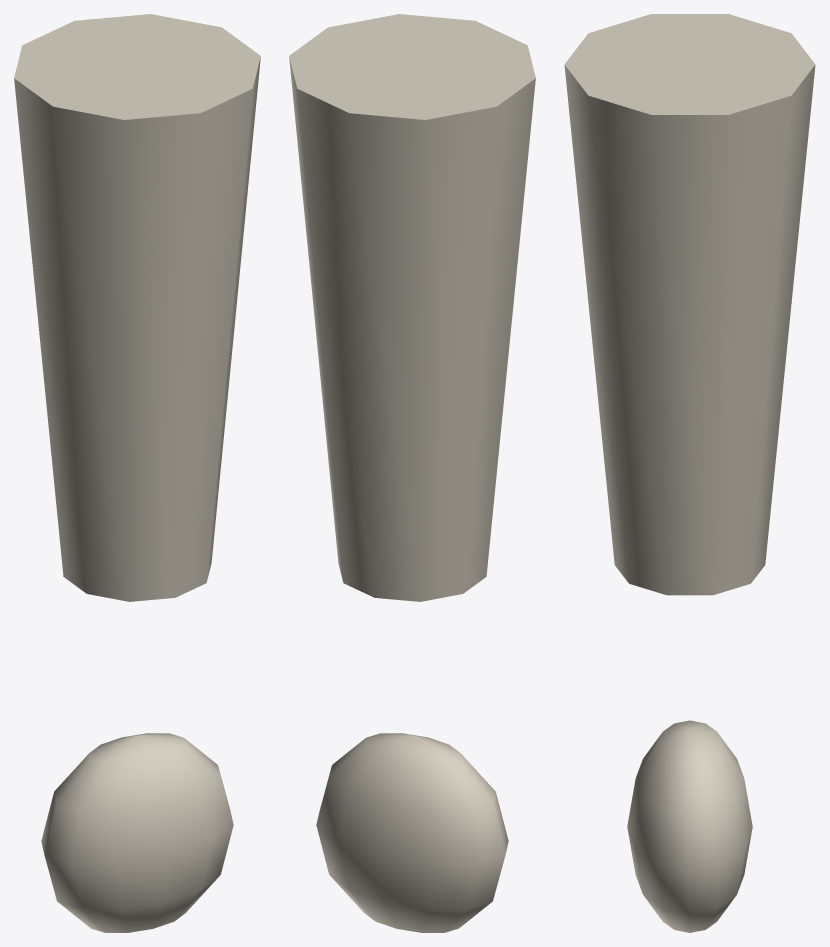
File: punctuation.glb
3 renders of one model, left to right at view 1: azimuth 30°, elevation 25°; view 2: azimuth 150°, elevation 25°; view 3: azimuth 270°, elevation 25°, orthographic.
Visible parts, largest first — view 1: punctuation; view 2: punctuation; view 3: punctuation.
Boxes of the visible parts, box(x1,y1,x2,y2) form: punctuation: box(14, 14, 260, 932); punctuation: box(289, 14, 535, 932); punctuation: box(564, 14, 815, 932).
Size of the model in its own units: 0.0856 by 0.3398 by 0.09.
